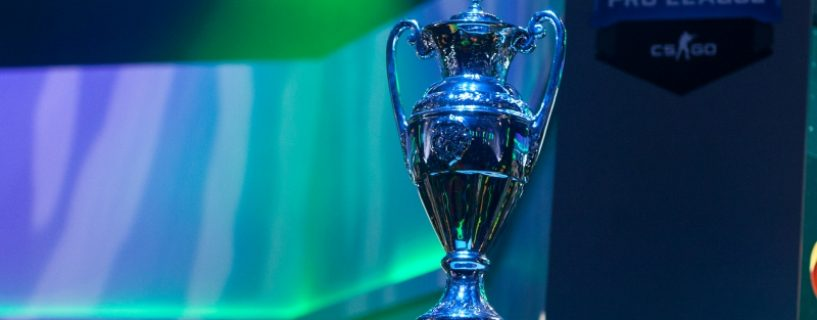trophy: (385, 1, 568, 320)
